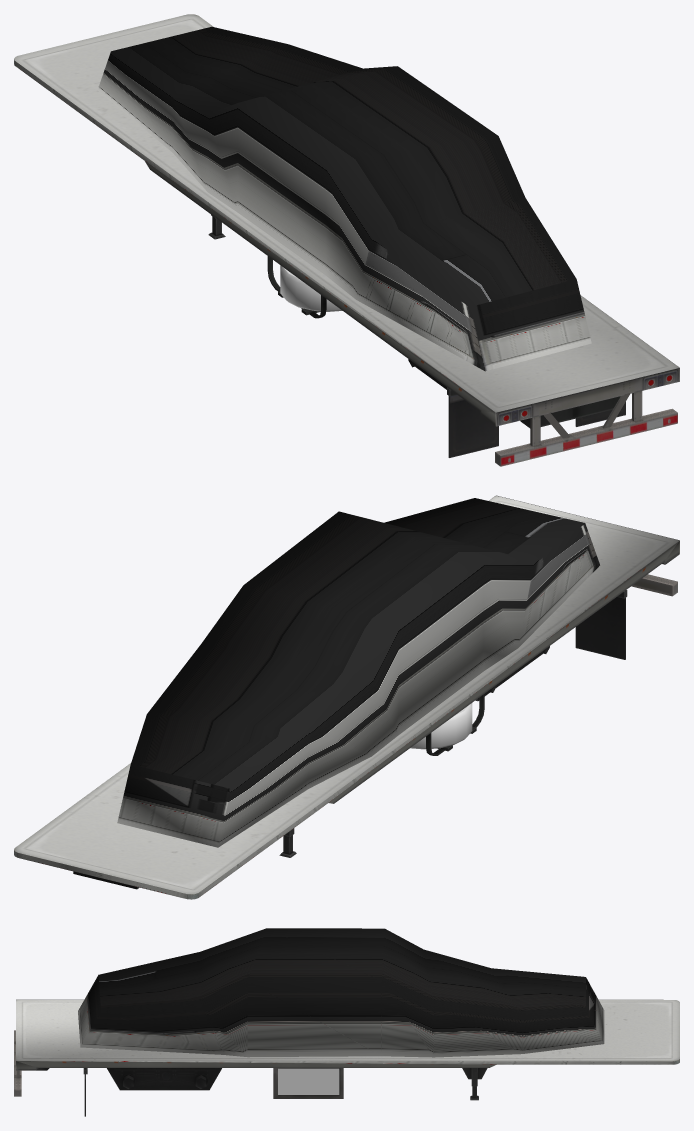
The model's file is trailers_Flatbed_Body.fbx.
The picture shows the model from 3 angles, top to bottom: view 1: azimuth 30°, elevation 25°; view 2: azimuth 150°, elevation 25°; view 3: azimuth 270°, elevation 25°; orthographic projection. The views are drawn at different scales.
Parts seen in each view (by area): view 1: Cube, Body_mesh, SpareTire_mesh; view 2: Cube, Body_mesh, SpareTire_mesh; view 3: Cube, Body_mesh, Toolbox_mesh.
Part boxes in pixels (bbox=[...]): Cube: bbox=[97, 26, 591, 371]; Body_mesh: bbox=[14, 14, 679, 466]; SpareTire_mesh: bbox=[280, 265, 342, 311]; Cube: bbox=[117, 498, 599, 847]; Body_mesh: bbox=[14, 495, 679, 899]; SpareTire_mesh: bbox=[410, 703, 472, 749]; Cube: bbox=[78, 928, 604, 1057]; Body_mesh: bbox=[14, 999, 679, 1116]; Toolbox_mesh: bbox=[278, 1068, 339, 1094].
Size of the model in its own units: 184 by 186 by 845.
Materials: 1 (1 with a texture image).
